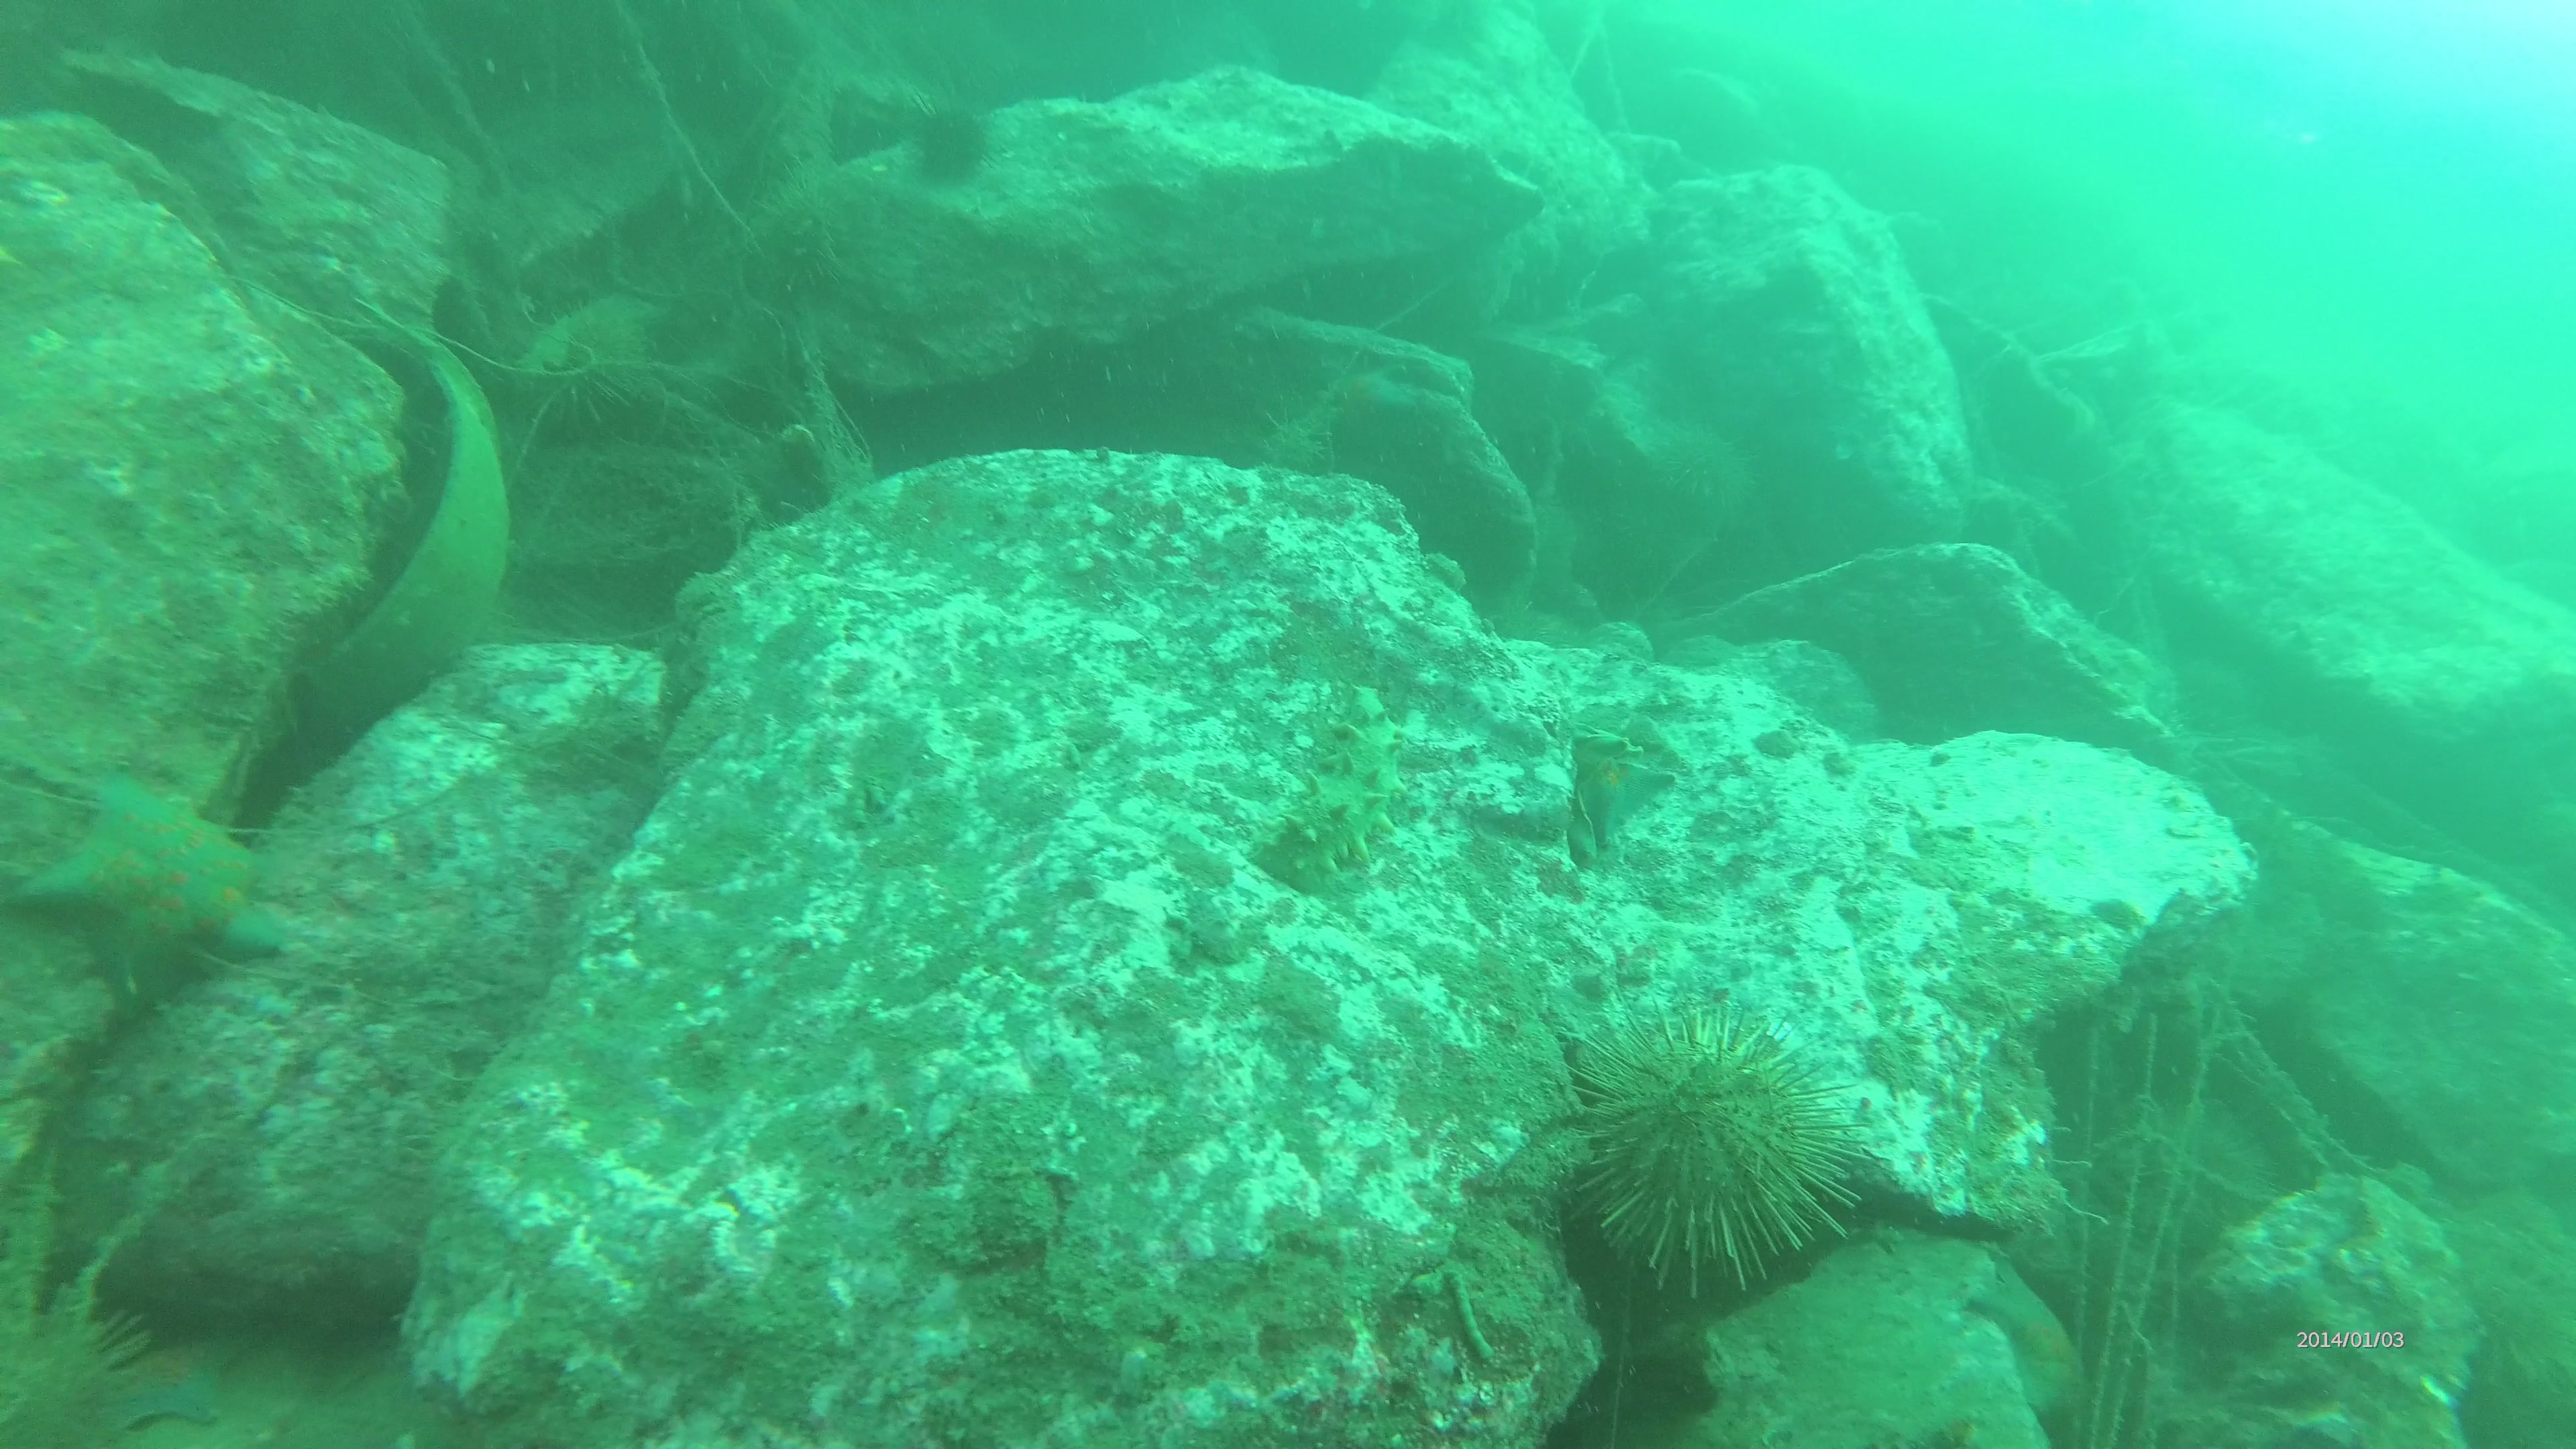echinus: (1552, 993, 1891, 1297), (541, 303, 660, 442), (743, 170, 865, 303), (908, 92, 1016, 186)
holothurian: (1260, 679, 1417, 883)
starfish: (18, 757, 299, 989)
